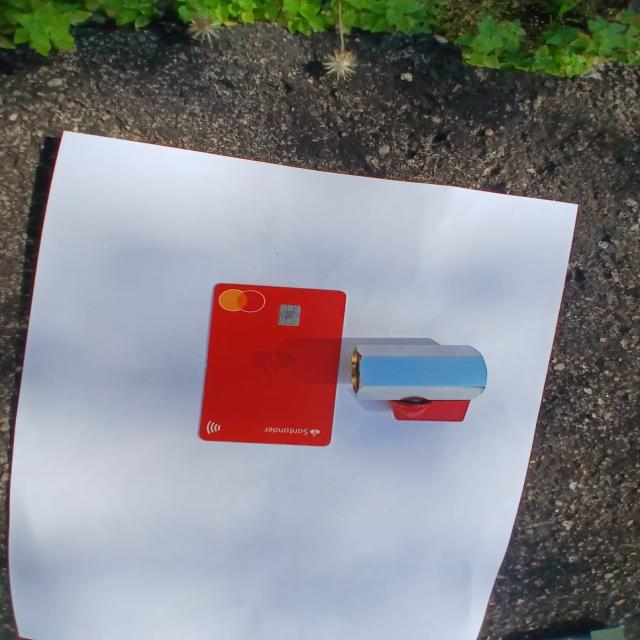cartao: (198, 283, 346, 446)
rosca_interna: (352, 344, 487, 422)
